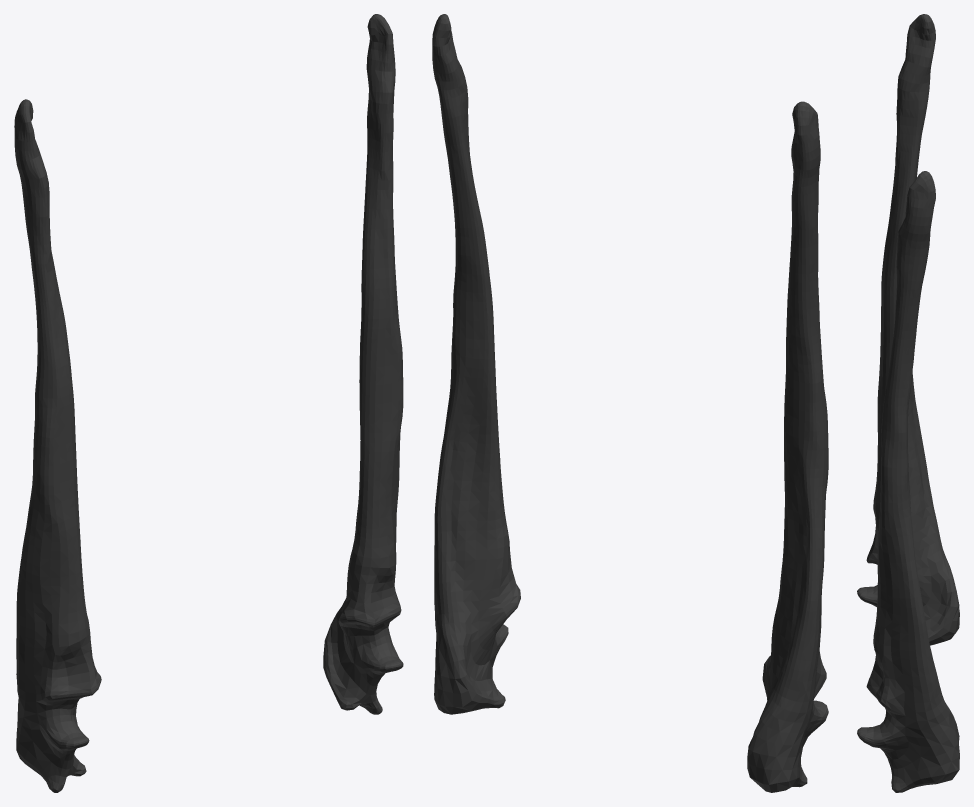
Rendered from Ulna_1.glb.
3 renders of one model, left to right at view 1: azimuth 30°, elevation 25°; view 2: azimuth 150°, elevation 25°; view 3: azimuth 270°, elevation 25°, orthographic. The views are drawn at different scales.
Parts seen in each view (by area): view 1: Ulna_1; view 2: Ulna_1; view 3: Ulna_1.
Part boxes in pixels (left/top/right/bottom): Ulna_1: left=14, top=14, right=403, bottom=792; Ulna_1: left=432, top=14, right=828, bottom=792; Ulna_1: left=857, top=14, right=959, bottom=792.
Size of the model in its own units: 0.004 by 0.00698 by 0.00104.
1 material, 1 textured.
